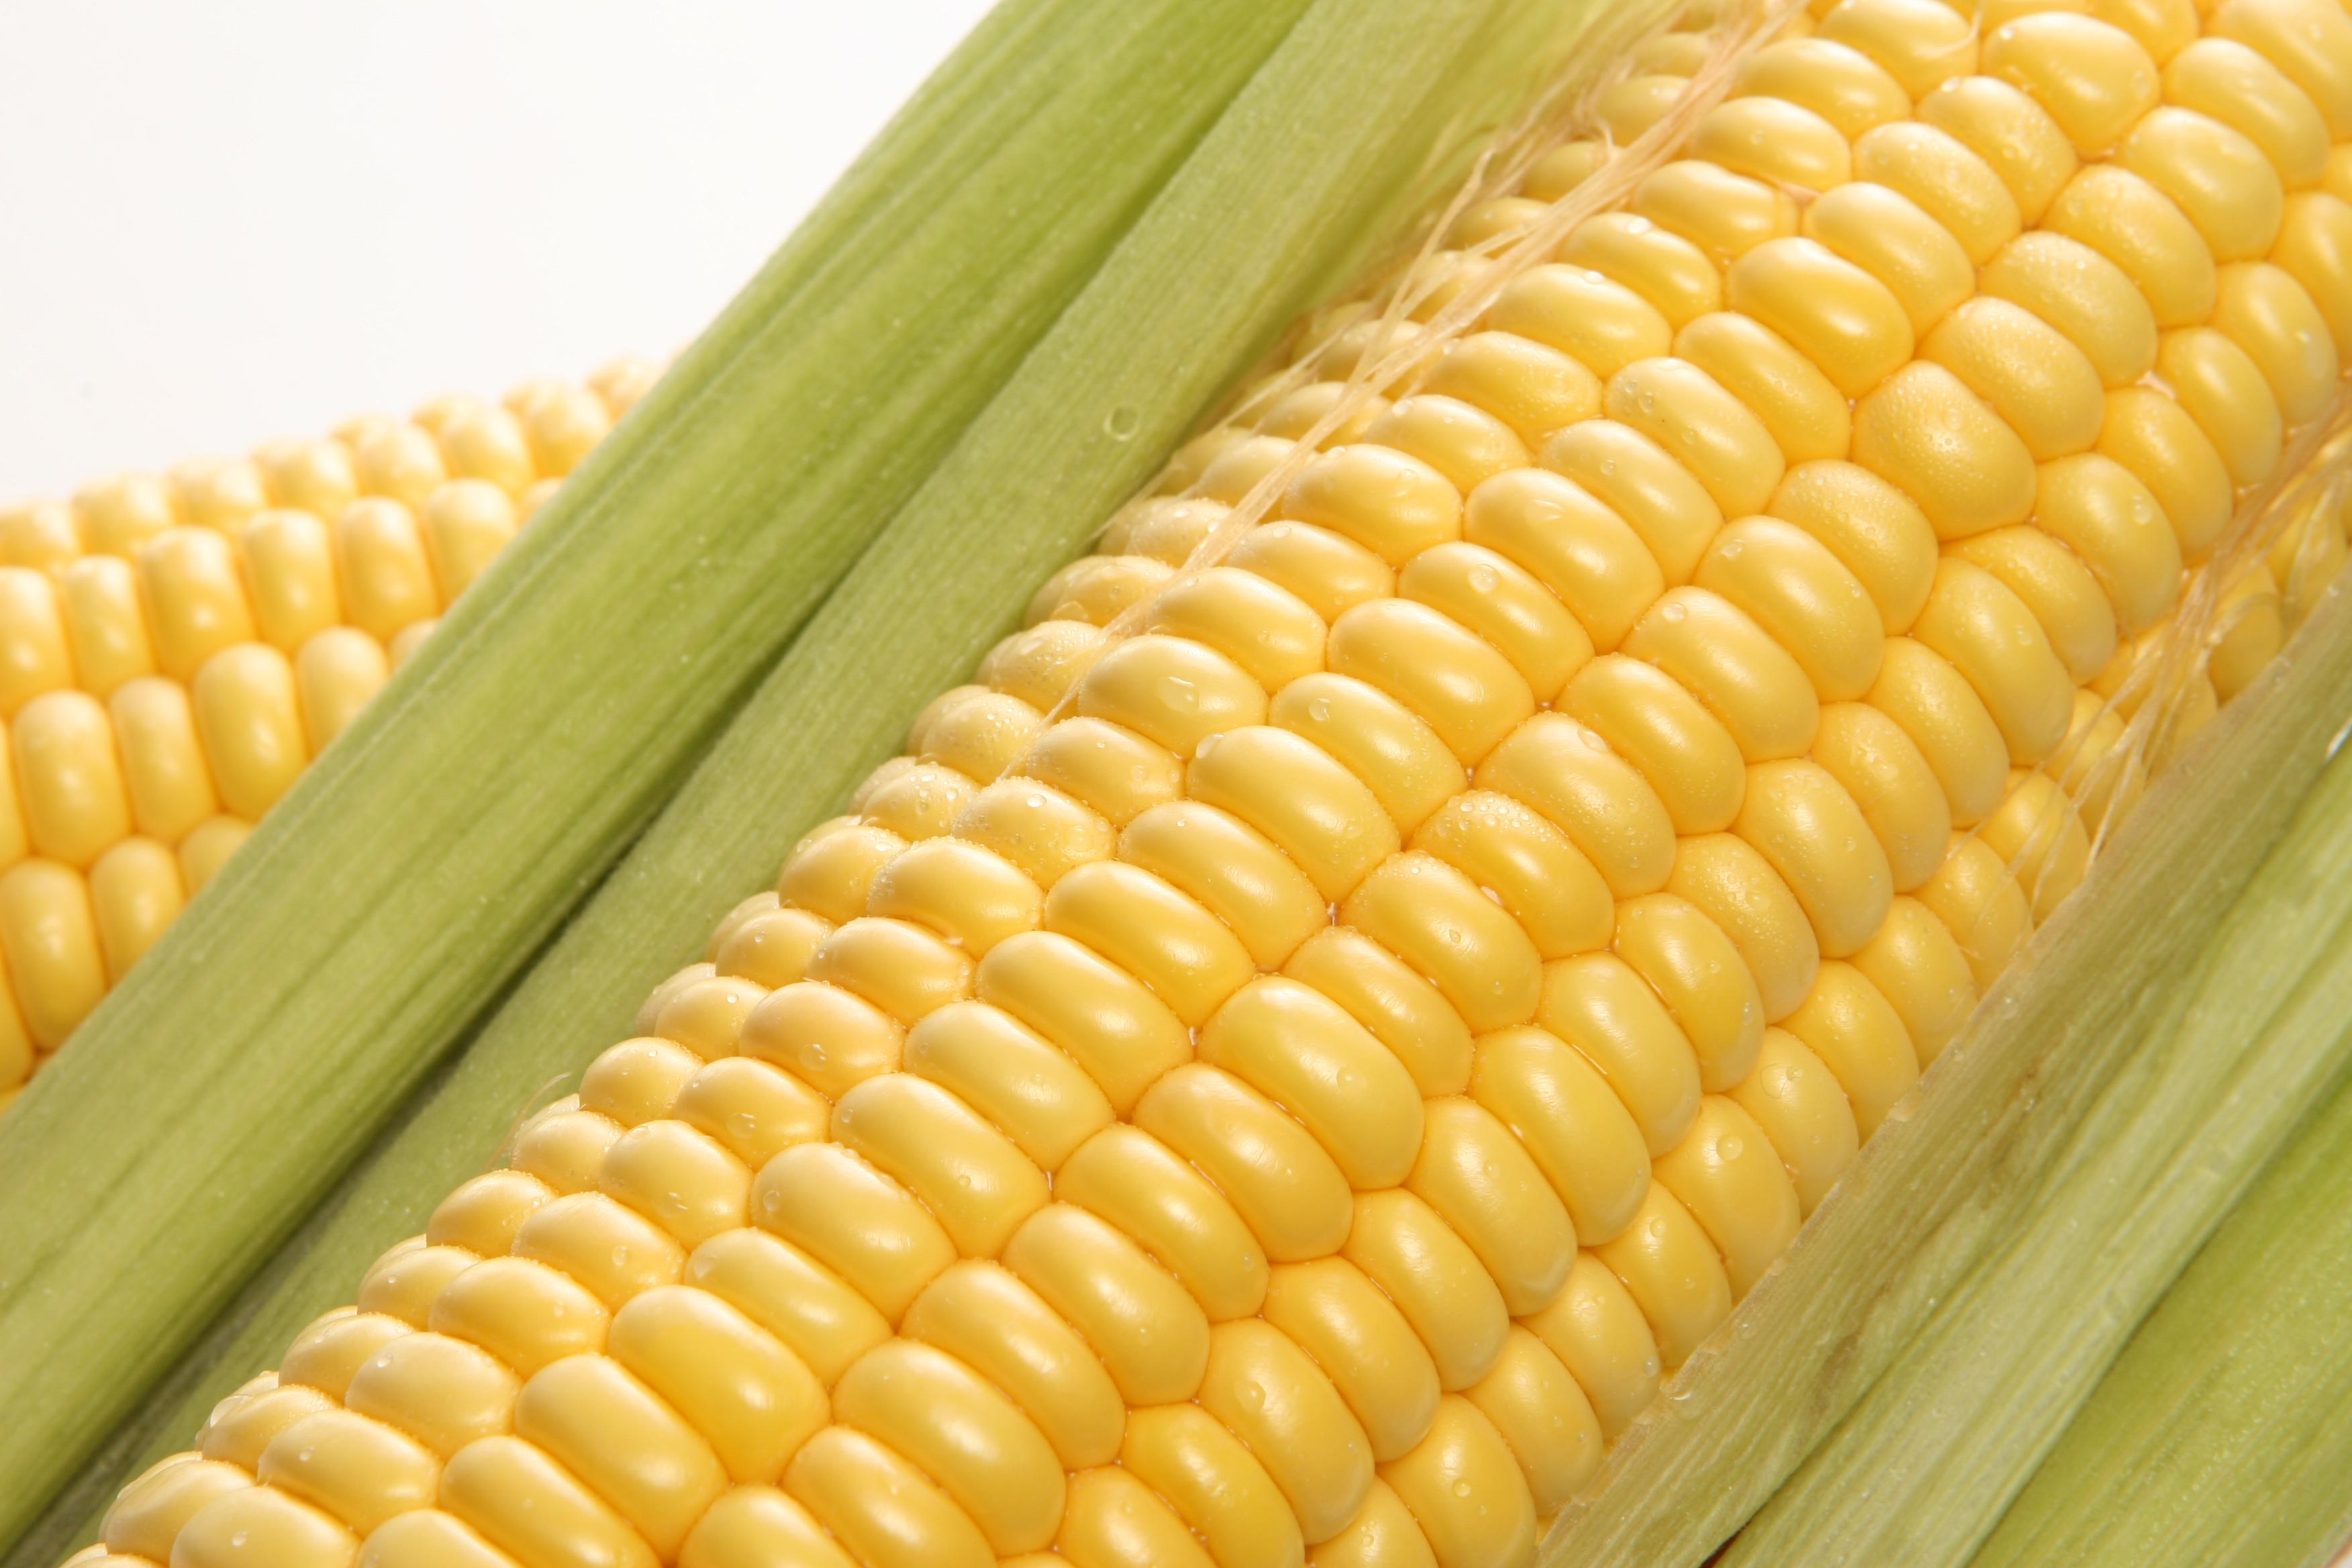sweetcorn: (46, 0, 2347, 1563), (1531, 553, 2348, 1564), (2, 355, 663, 1110)
